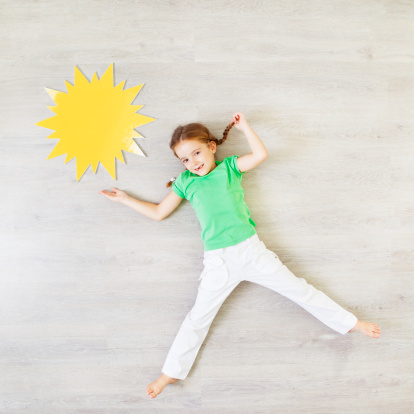deitado: (120, 93, 341, 404)
